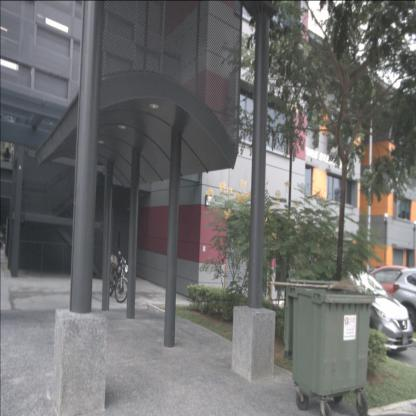vehicle-car: (292, 264, 414, 356), (350, 264, 416, 322), (392, 265, 416, 335)
vehicle-motorcycle: (106, 250, 128, 303)
